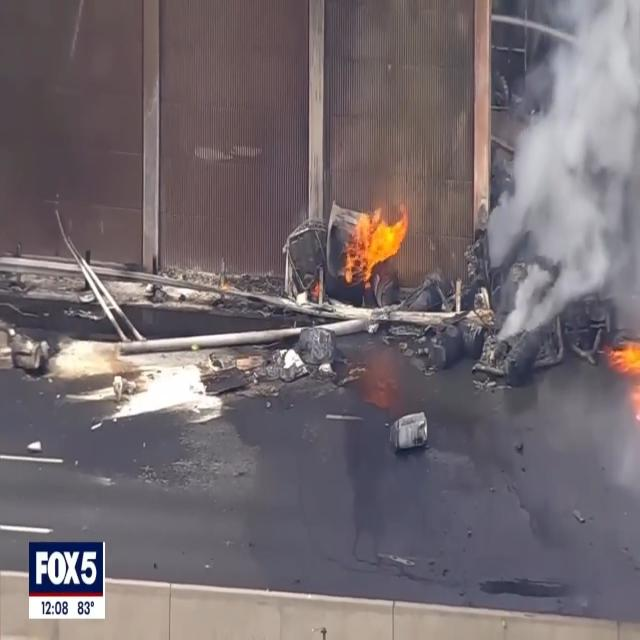fire: (346, 207, 406, 285)
